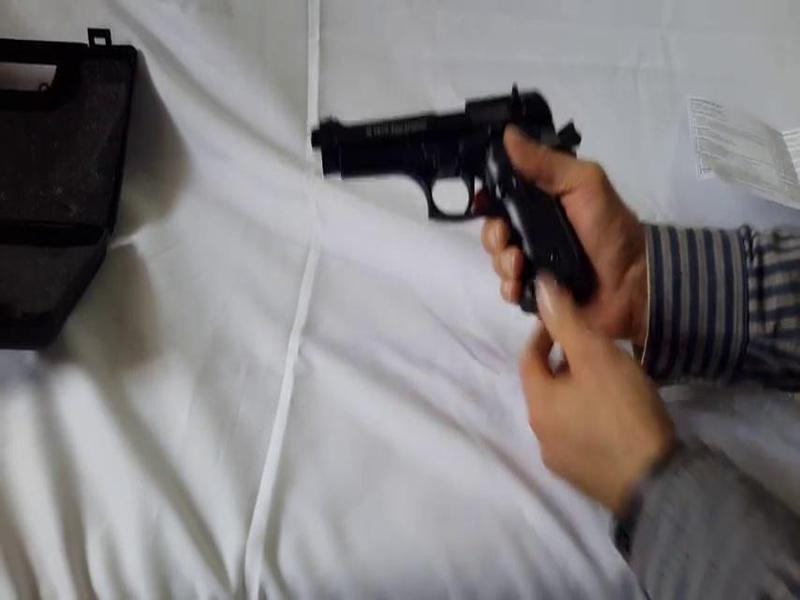Pistola: (300, 65, 622, 320)
